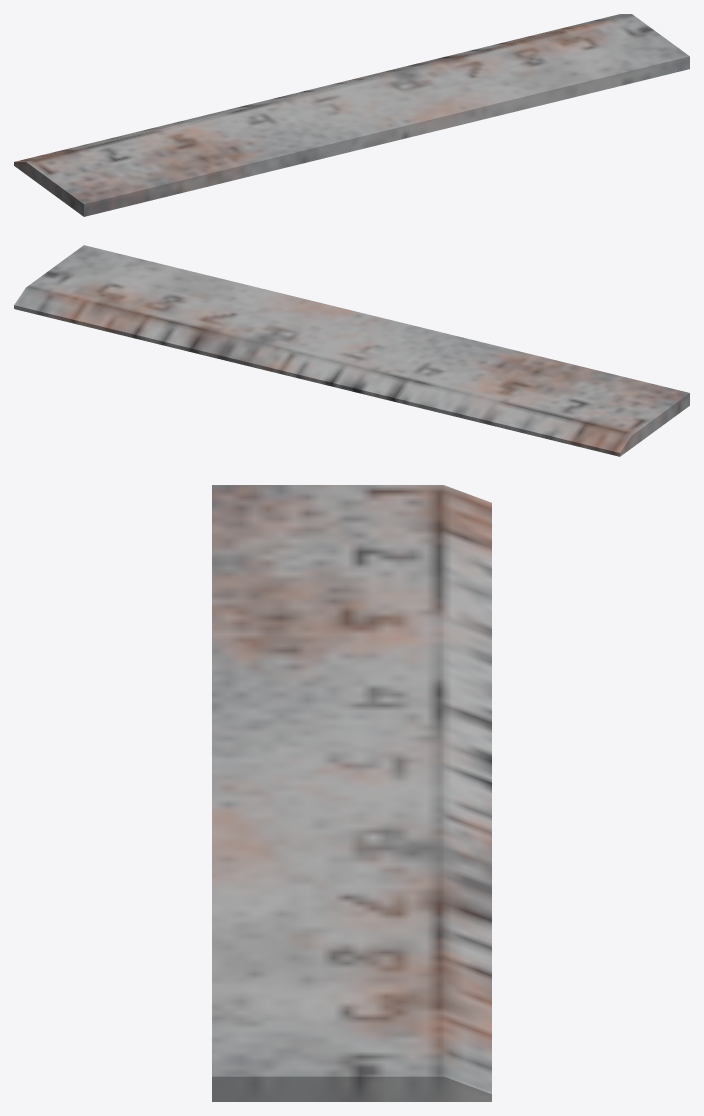
The model's file is SM-Regle.fbx.
3 views of the same model, one above another, from view 1: azimuth 30°, elevation 25°; view 2: azimuth 150°, elevation 25°; view 3: azimuth 270°, elevation 25° (orthographic). The views are drawn at different scales.
Visible parts, largest first — view 1: Box073; view 2: Box073; view 3: Box073.
Boxes of the visible parts, left/top/right/bottom form: Box073: left=14, top=14, right=689, bottom=216; Box073: left=14, top=245, right=689, bottom=456; Box073: left=212, top=485, right=491, bottom=1101.
Size of the model in its own units: 50 by 10 by 1.
1 material, 1 textured.
